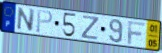5: (62, 11, 78, 38)
9: (108, 18, 124, 44)
F: (127, 20, 146, 46)
N: (15, 7, 36, 33)
P: (35, 9, 54, 35)
Z: (80, 15, 100, 42)
